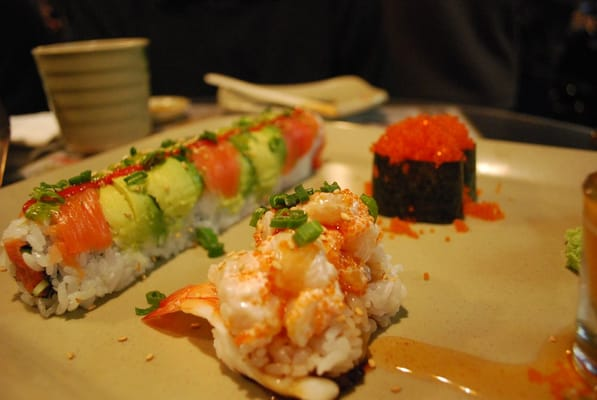pizza: (30, 36, 155, 157), (0, 87, 12, 189)
